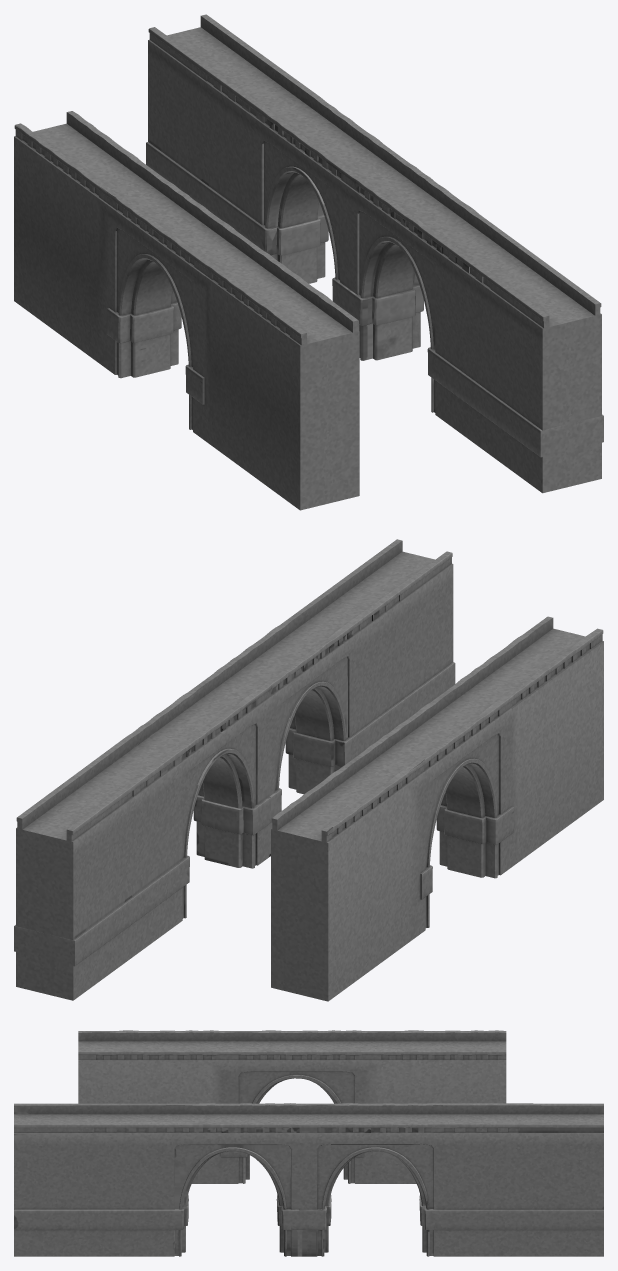
Rendered from bridges.fbx.
3 renders of one model, top to bottom at view 1: azimuth 30°, elevation 25°; view 2: azimuth 150°, elevation 25°; view 3: azimuth 270°, elevation 25°, orthographic. The views are drawn at different scales.
Parts seen in each view (by area): view 1: douple bridge, single bridge; view 2: douple bridge, single bridge; view 3: douple bridge, single bridge.
Part boxes in pixels (x1,y1,x2,y2): douple bridge: (146, 14, 603, 493); single bridge: (14, 111, 359, 510); douple bridge: (14, 539, 455, 1000); single bridge: (271, 616, 603, 1001); douple bridge: (14, 1103, 603, 1256); single bridge: (78, 1030, 506, 1183).
Bounding box in the file's own units: 16012 × 10291 × 41618.
